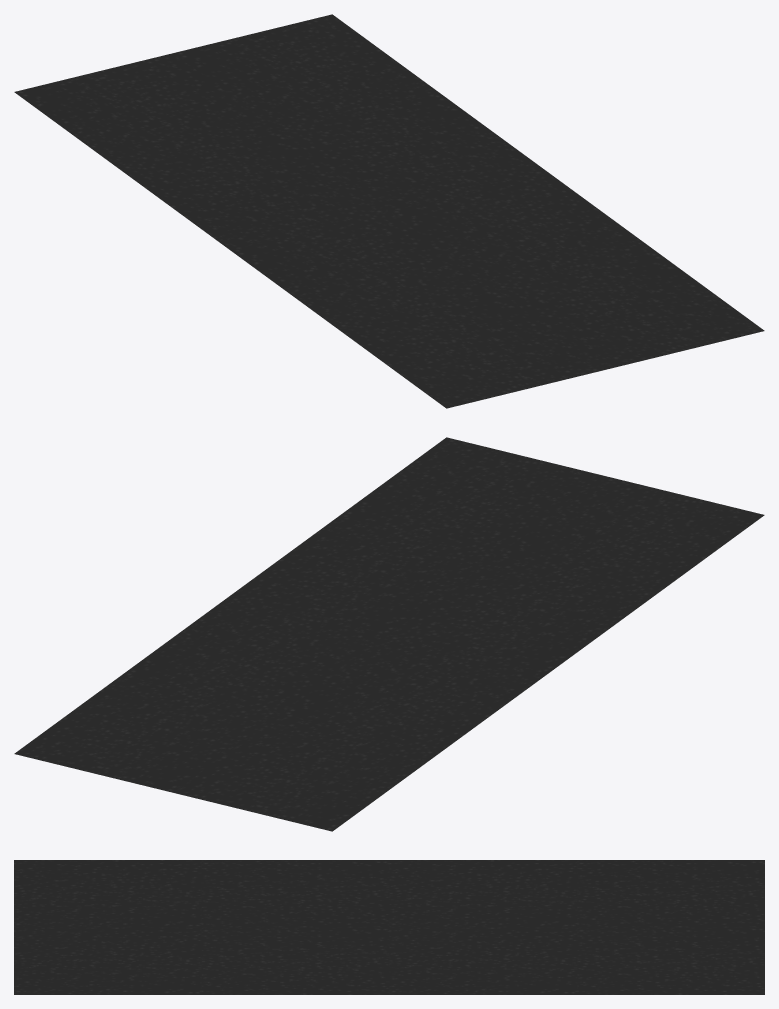
The model's file is SW_ENV_RailBase_Double_20m.fbx.
The picture shows the model from 3 angles, top to bottom: view 1: azimuth 30°, elevation 25°; view 2: azimuth 150°, elevation 25°; view 3: azimuth 270°, elevation 25°; orthographic projection. The views are drawn at different scales.
Visible parts, largest first — view 1: SW_ENV_RailBase_Double_20m; view 2: SW_ENV_RailBase_Double_20m; view 3: SW_ENV_RailBase_Double_20m.
Boxes of the visible parts, bbox=[...] form: SW_ENV_RailBase_Double_20m: bbox=[14, 14, 764, 408]; SW_ENV_RailBase_Double_20m: bbox=[14, 437, 764, 831]; SW_ENV_RailBase_Double_20m: bbox=[14, 860, 764, 994].
Size of the model in its own units: 850 by 1.99e-05 by 2000.
